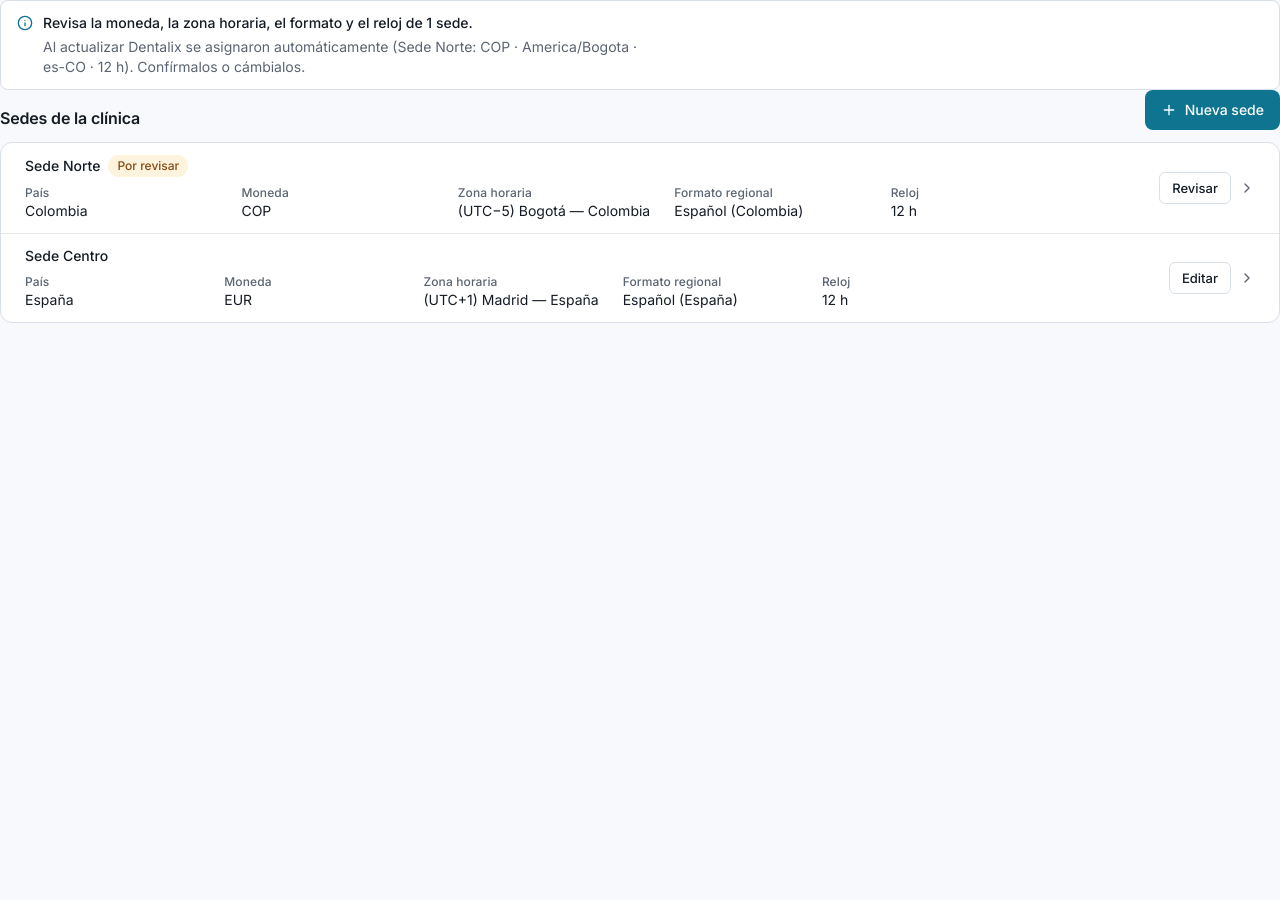
Test: RegionalReviewNotice (aviso D5, spec §7) › notice disappears after saving in the modal
Expected: the list item "Sede Norte" shows "Por revisar", [117,158,179,173]
Expected: the list item "Sede Centro" does not show "Por revisar", [1,234,1279,322]
What coordinates should you click on to do the following:
click the button with aria-label "Revisar Sede Norte"
I would click on:
 (1195, 188)
Its box is [1159,172,1231,204].
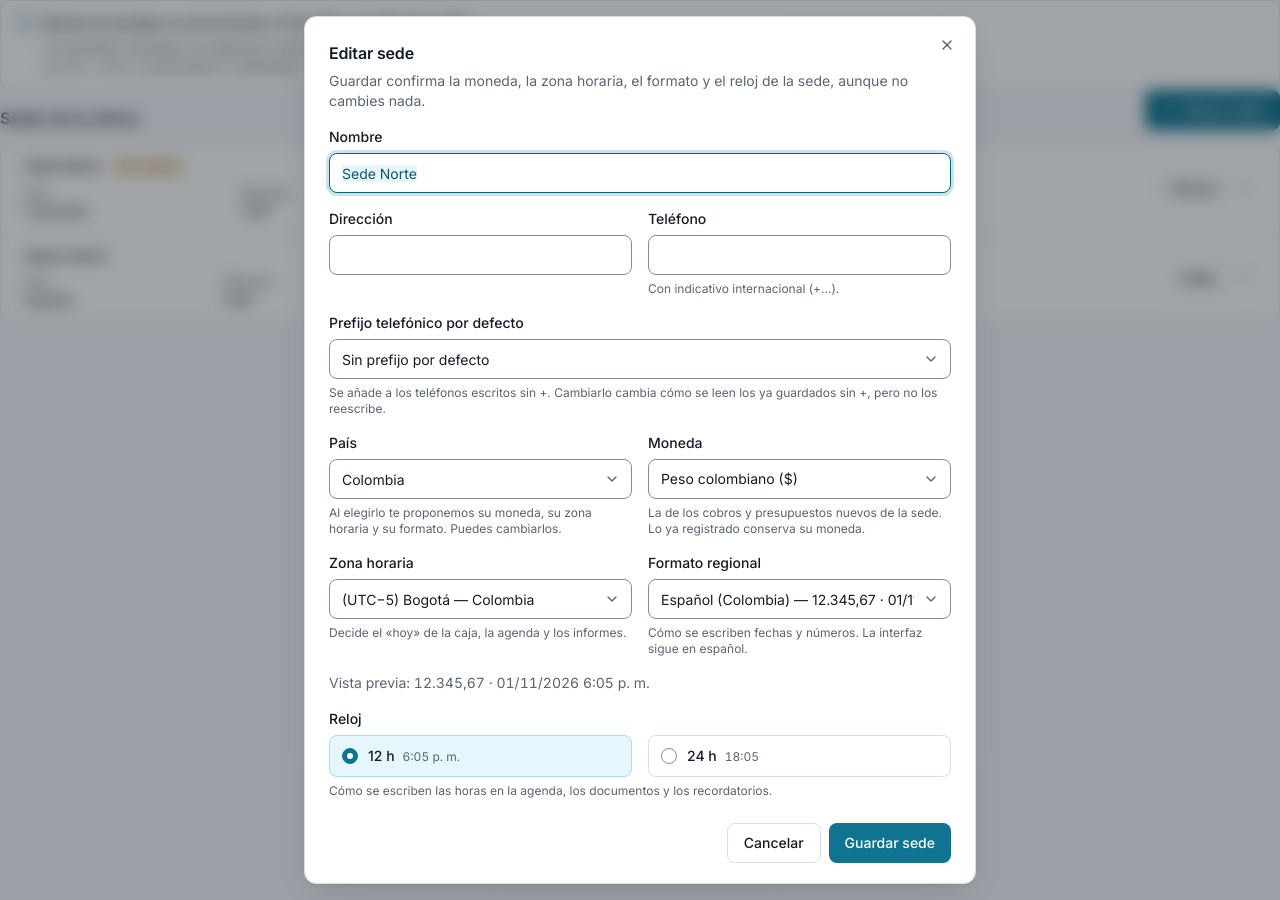
What coordinates should you click on to do the following:
click the button "Guardar sede"
I would click on:
 (890, 843)
Its box is [829,823,951,863].
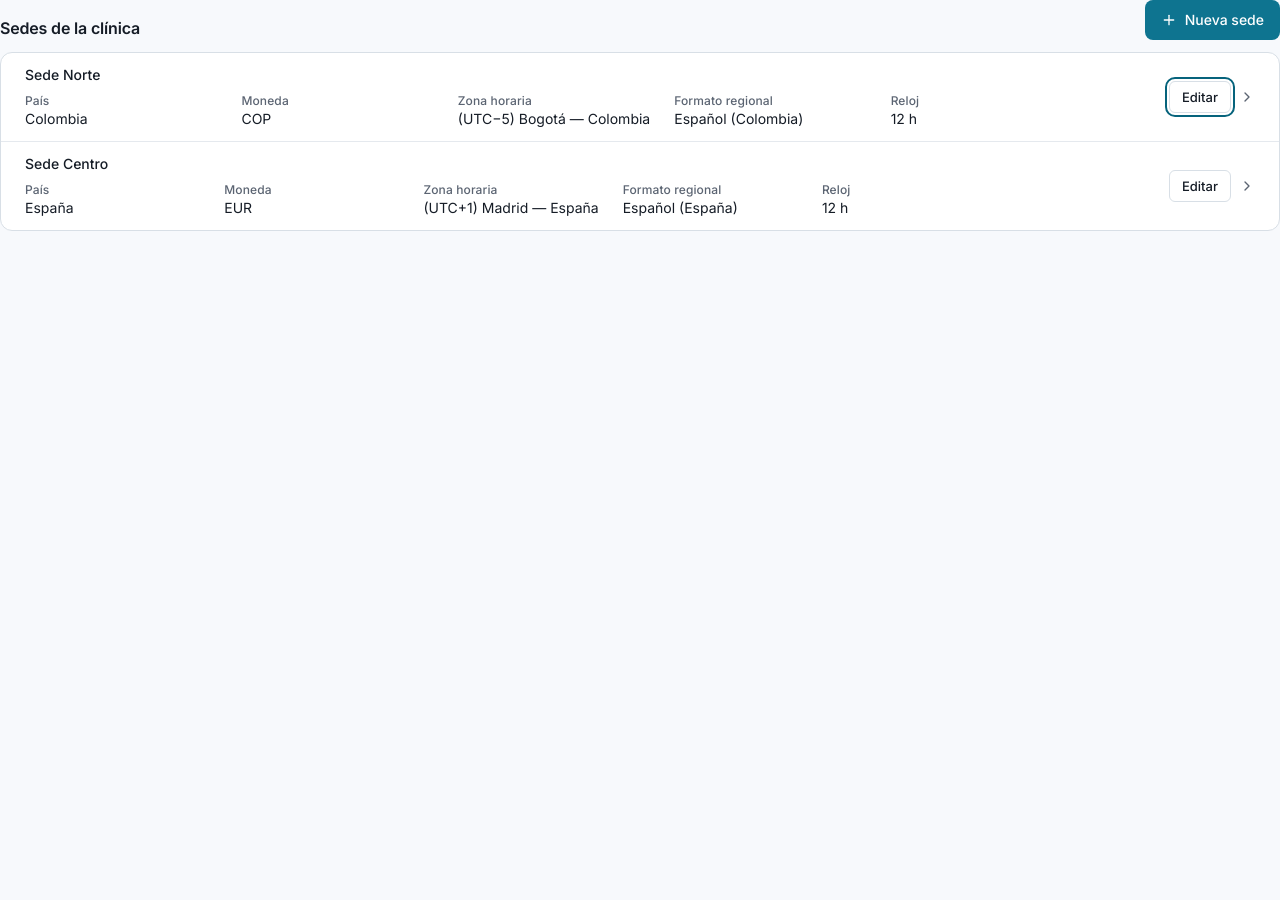
Now the list item "Sede Norte" no longer shows "Por revisar", box [1,53,1279,142]
Now the button with aria-label "Editar Sede Norte" is shown, box [1169,81,1231,113]
